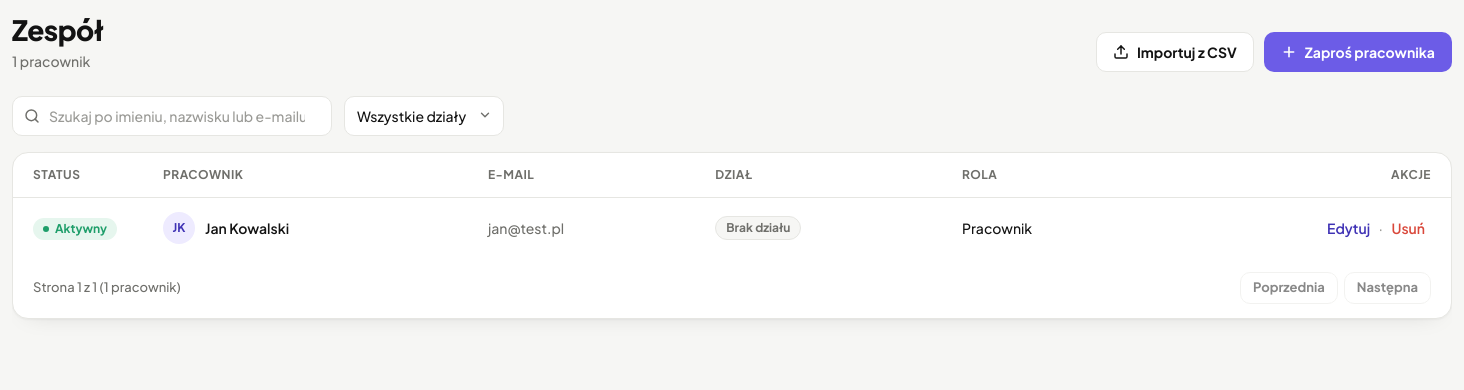
Test: UsersPageClient › pokazuje komunikat, gdy usunięcie się nie powiodło (np. ostatni administrator)
Expected: the text "jan@test.pl" is shown, [468, 198, 695, 258]
Click the button "Usuń". click: x=1408, y=228
box: [1386, 214, 1431, 242]
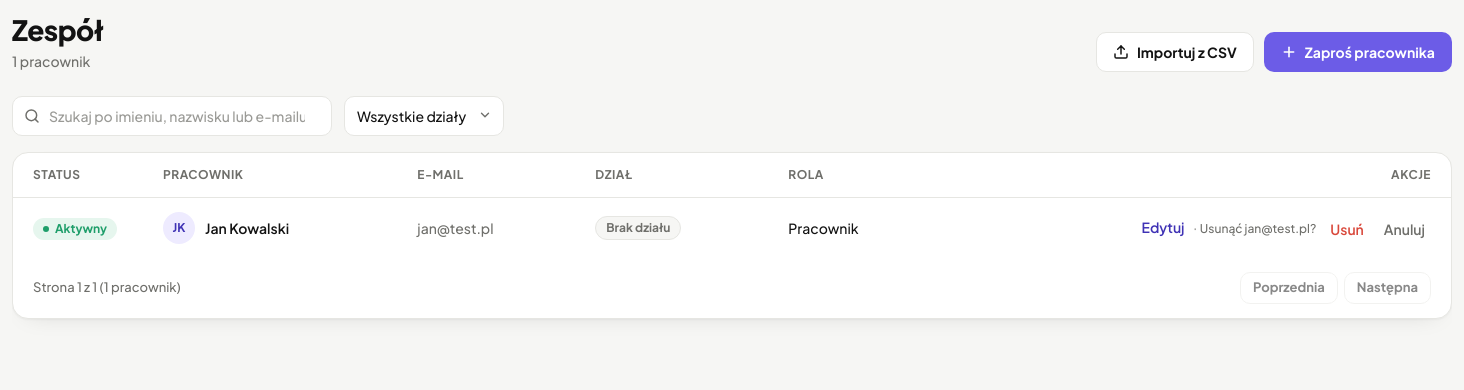
Click the button "Usuń". click: x=1347, y=229
box: [1324, 215, 1370, 243]
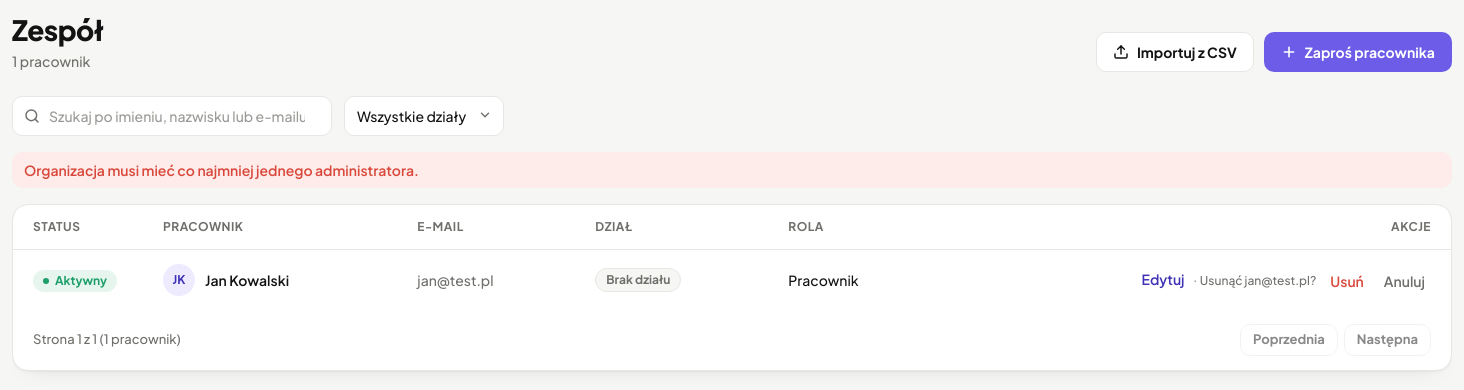
Expected: the text "Organizacja musi mieć co najmniej jednego administratora." is shown, [12, 152, 1452, 188]
